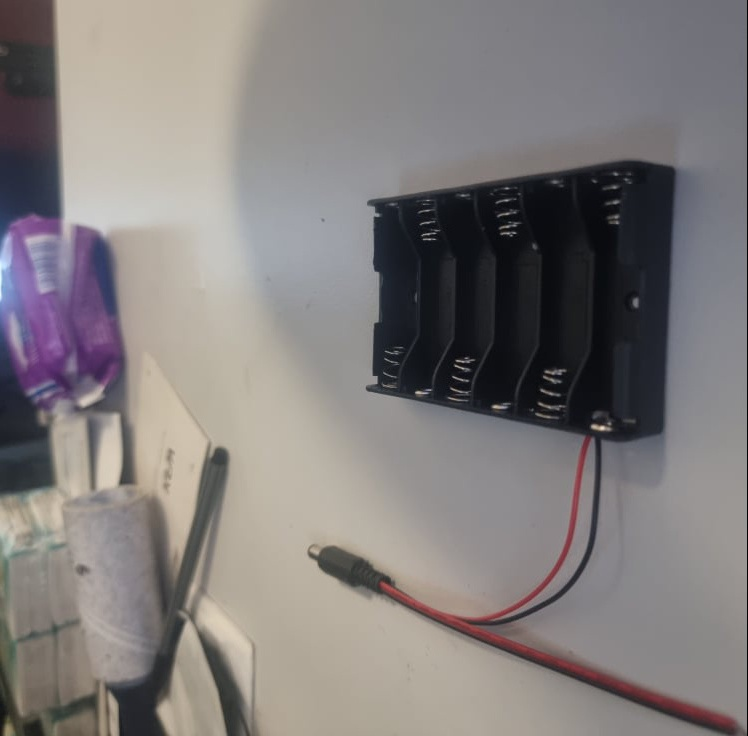BATTERY BOX: (365, 159, 675, 442)
